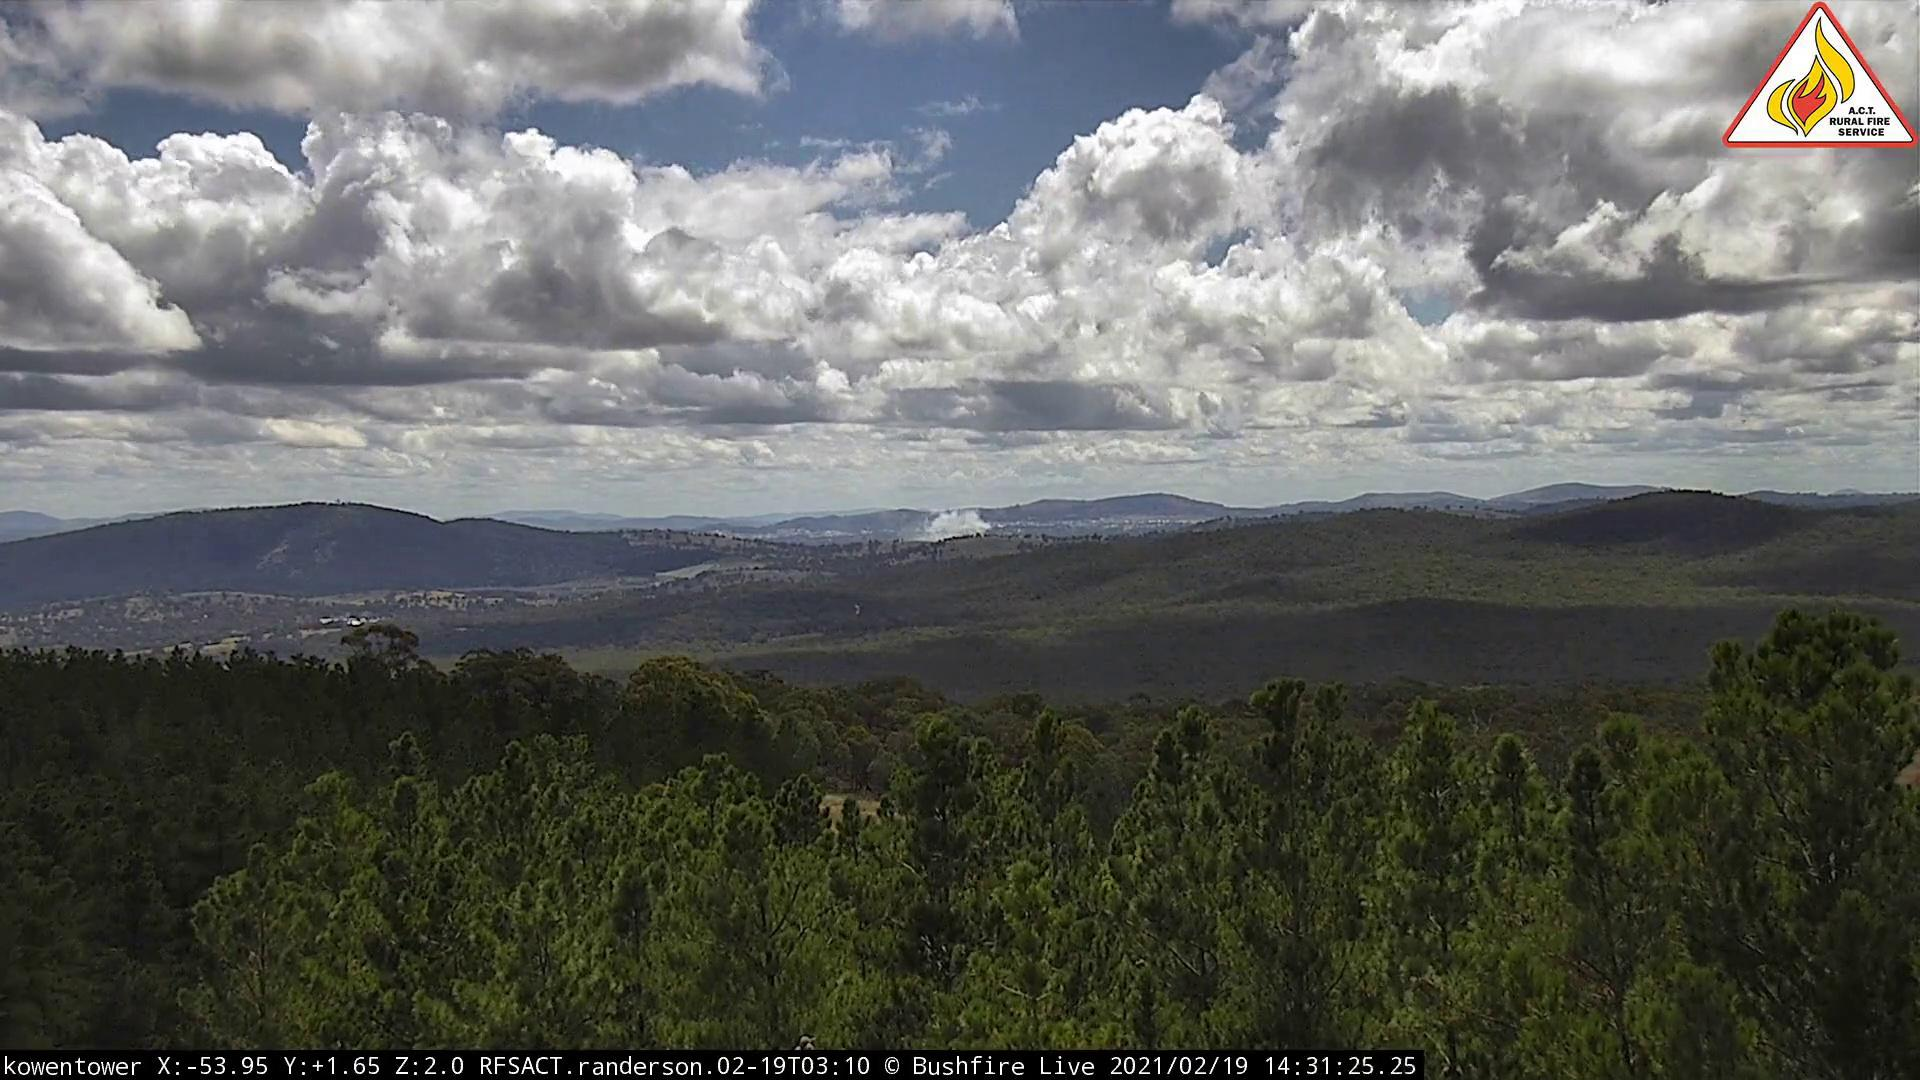Smoke: (901, 498, 998, 550)
